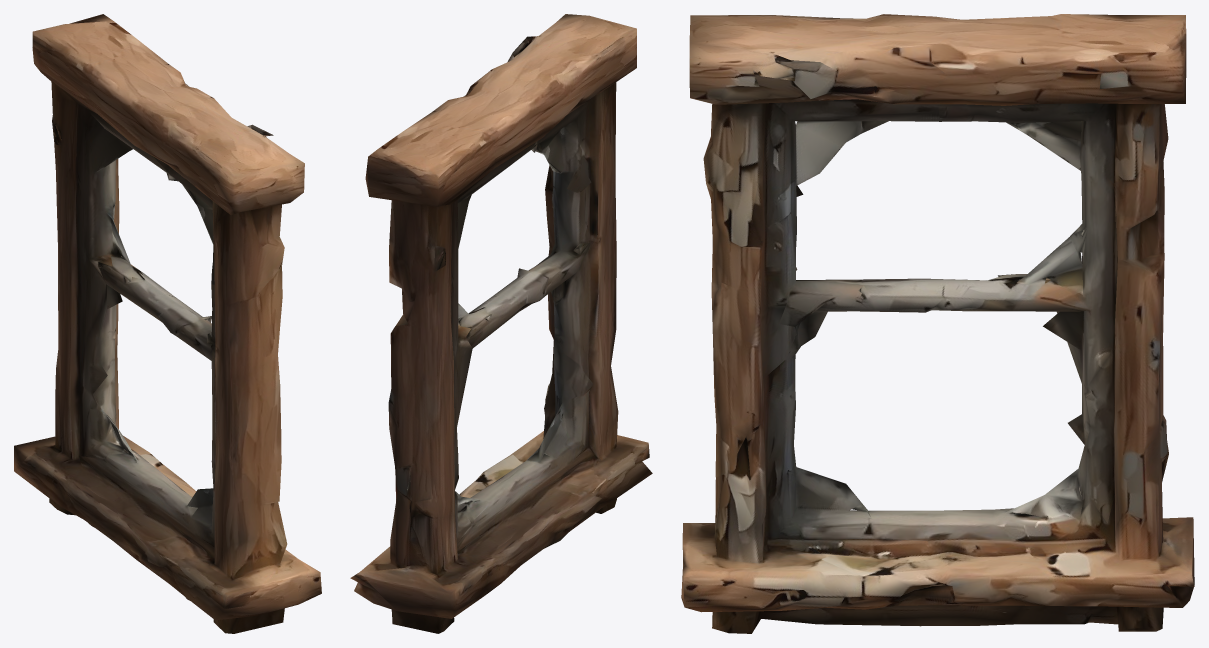
Rendered from d_window.glb.
The picture shows the model from 3 angles, left to right: view 1: azimuth 30°, elevation 25°; view 2: azimuth 150°, elevation 25°; view 3: azimuth 270°, elevation 25°; orthographic projection. The views are drawn at different scales.
Visible parts, largest first — view 1: tripo_node_973bf736-e221-4043-8437-502e01ea8661; view 2: tripo_node_973bf736-e221-4043-8437-502e01ea8661; view 3: tripo_node_973bf736-e221-4043-8437-502e01ea8661.
Boxes of the visible parts, x1,y1,x2,y2 form: tripo_node_973bf736-e221-4043-8437-502e01ea8661: (14,14,321,633); tripo_node_973bf736-e221-4043-8437-502e01ea8661: (350,14,652,633); tripo_node_973bf736-e221-4043-8437-502e01ea8661: (681,14,1194,633).
Size of the model in its own units: 0.2353 by 1 by 0.7897.
1 material, 1 textured.
